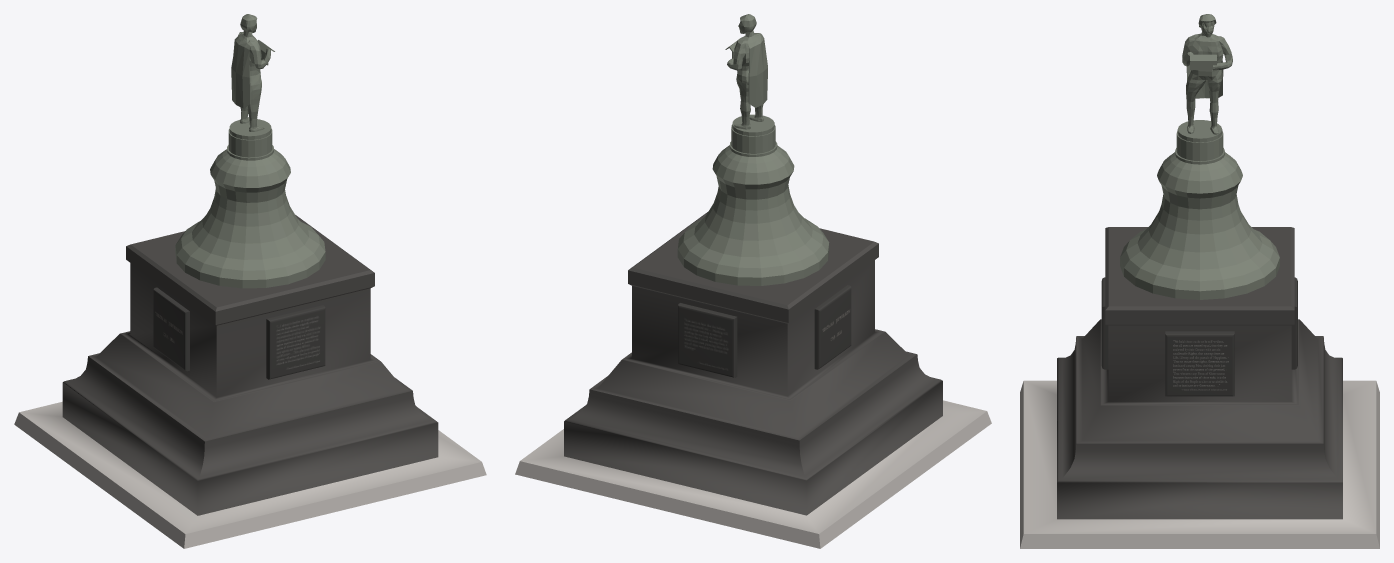
File: statue.fbx
3 views of the same model, side by side, from view 1: azimuth 30°, elevation 25°; view 2: azimuth 150°, elevation 25°; view 3: azimuth 270°, elevation 25° (orthographic). The views are drawn at different scales.
Visible parts, largest first — view 1: base, Statue, polySurface6, polySurface5; view 2: base, Statue, polySurface7, polySurface5; view 3: base, Statue, polySurface8, polySurface6, polySurface7.
Part boxes in pixels (<box>): base: <box>14,215,486,548</box>; Statue: <box>175,14,325,288</box>; polySurface6: <box>266,305,325,379</box>; polySurface5: <box>153,287,189,371</box>; base: <box>515,211,991,548</box>; Statue: <box>677,14,829,285</box>; polySurface7: <box>678,303,737,377</box>; polySurface5: <box>814,285,851,369</box>; base: <box>1020,227,1379,548</box>; Statue: <box>1120,14,1279,299</box>; polySurface8: <box>1165,331,1234,396</box>; polySurface6: <box>1101,277,1108,369</box>; polySurface7: <box>1291,277,1297,369</box>.
Size of the model in its own units: 0.5266 by 0.7185 by 0.5122.
Materials: 7 (4 with a texture image).
